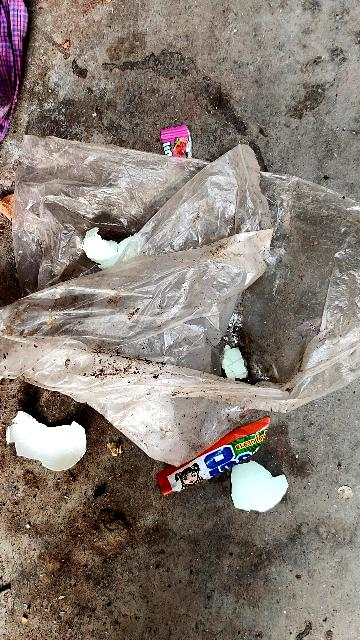polythene: (0, 146, 355, 483)
